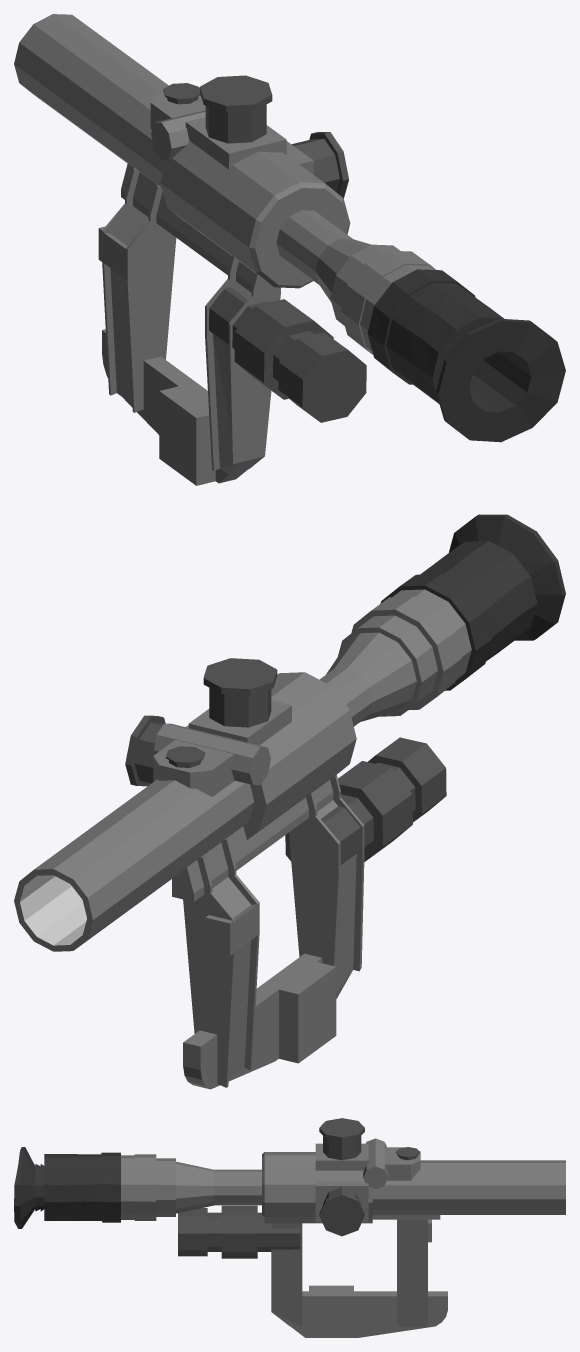
File: optic_05.fbx
3 renders of one model, top to bottom at view 1: azimuth 30°, elevation 25°; view 2: azimuth 150°, elevation 25°; view 3: azimuth 270°, elevation 25°, orthographic. The views are drawn at different scales.
Visible parts, largest first — view 1: PSO_1; view 2: PSO_1; view 3: PSO_1.
Boxes of the visible parts, x1,y1,x2,y2 form: PSO_1: [14, 14, 565, 485]; PSO_1: [14, 514, 565, 1089]; PSO_1: [14, 1118, 565, 1337].
Size of the model in its own units: 5.91 by 12.27 by 28.01.
